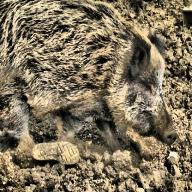boar: (0, 0, 180, 157)
